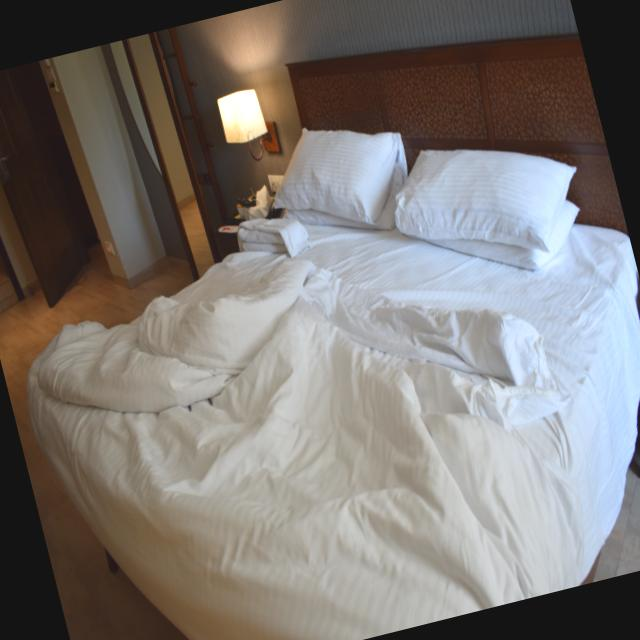mess: (14, 200, 640, 640), (274, 56, 640, 429), (201, 115, 313, 282)
